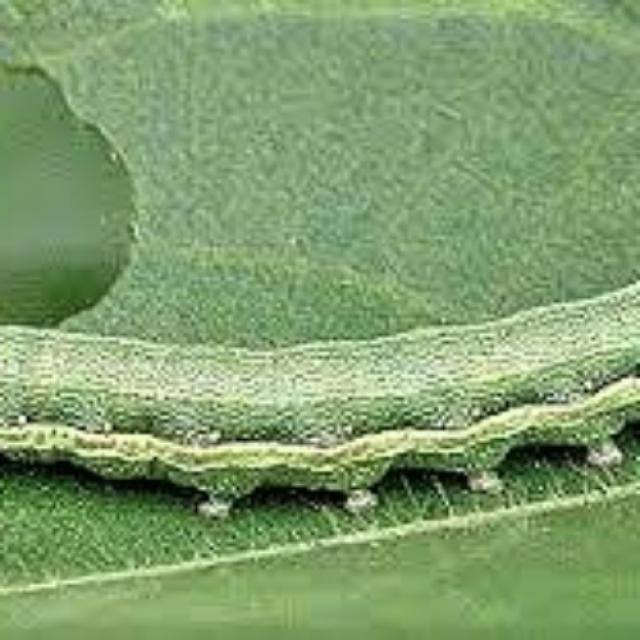armyworm: (0, 283, 640, 519)
